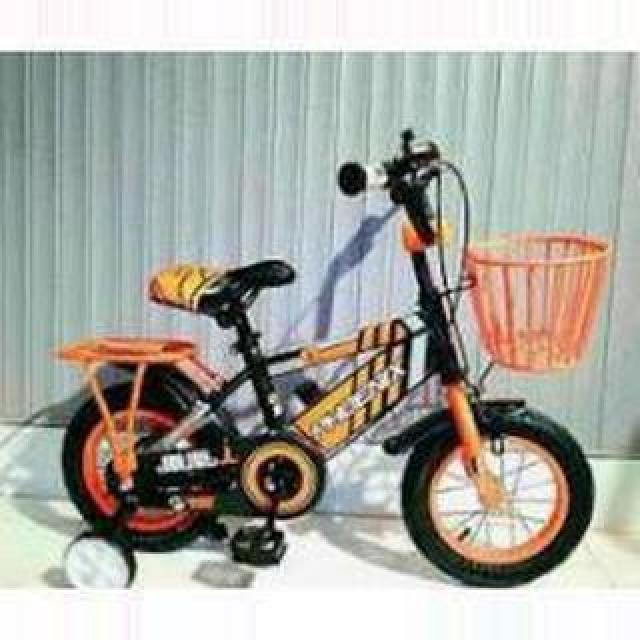Person: (54, 126, 610, 588)
